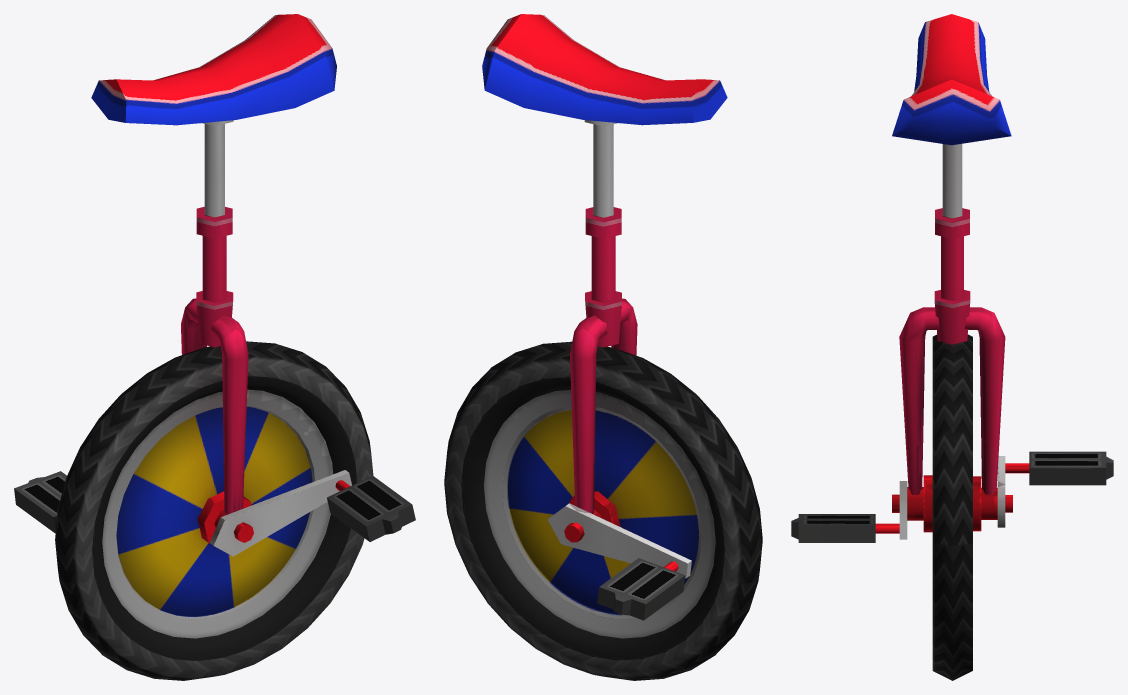
File: unicycle.fbx
3 views of the same model, side by side, from view 1: azimuth 30°, elevation 25°; view 2: azimuth 150°, elevation 25°; view 3: azimuth 270°, elevation 25° (orthographic). The views are drawn at different scales.
Visible parts, largest first — view 1: unicycle; view 2: unicycle; view 3: unicycle.
Boxes of the visible parts, x1,y1,x2,y2 form: unicycle: (14, 14, 415, 680); unicycle: (444, 14, 762, 680); unicycle: (791, 14, 1113, 680).
Size of the model in its own units: 0.1758 by 0.3414 by 0.1597.
